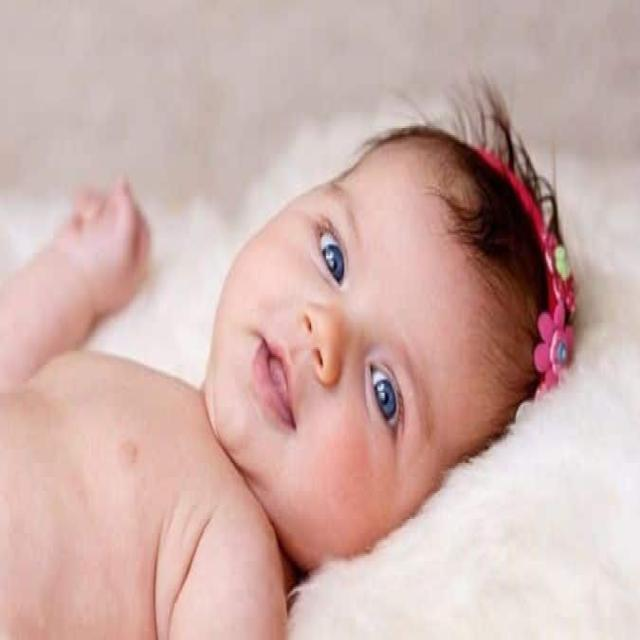non-dog: (2, 92, 574, 632)
